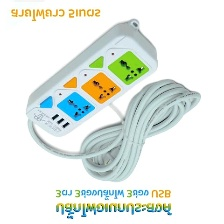three_eye_plug: (23, 22, 159, 139)
